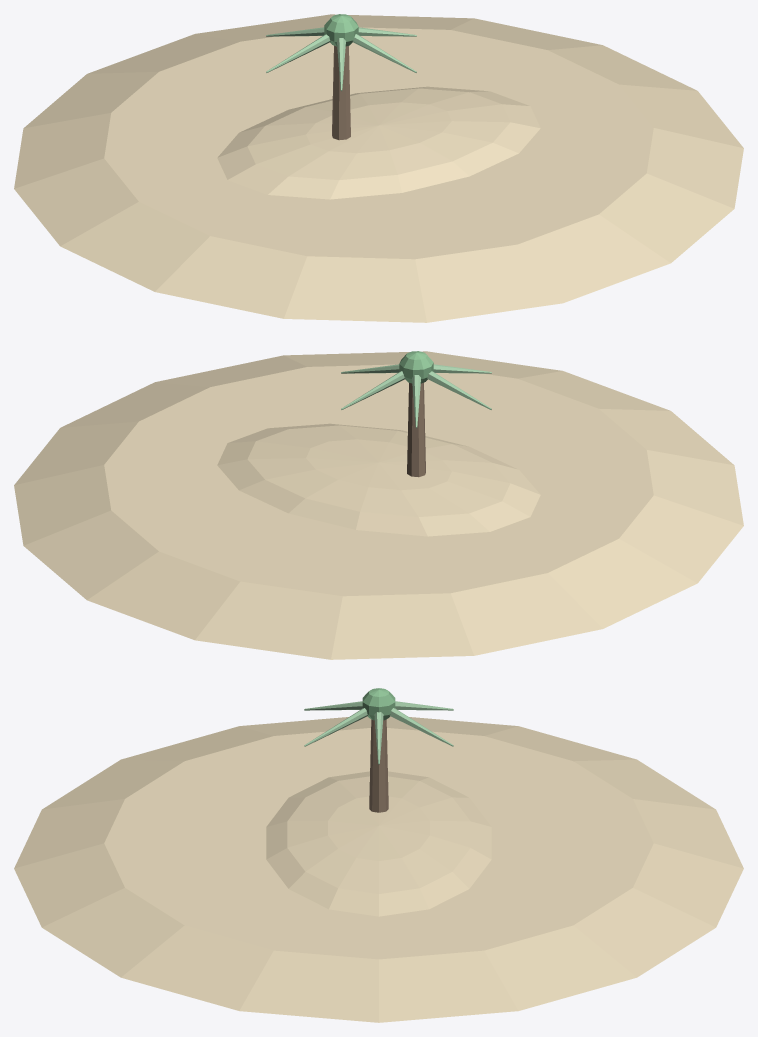
Rendered from isla_lejana.glb.
3 renders of one model, top to bottom at view 1: azimuth 30°, elevation 25°; view 2: azimuth 150°, elevation 25°; view 3: azimuth 270°, elevation 25°, orthographic.
Visible parts, largest first — view 1: isla_lejana; view 2: isla_lejana; view 3: isla_lejana.
Part boxes in pixels (bbox=[...]): isla_lejana: bbox=[14, 14, 743, 322]; isla_lejana: bbox=[14, 351, 743, 659]; isla_lejana: bbox=[14, 688, 743, 1022].
Size of the model in its own units: 17 by 4.23 by 17.
